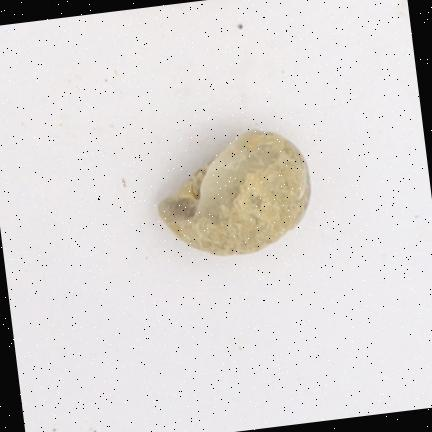husk: (159, 130, 310, 254)
